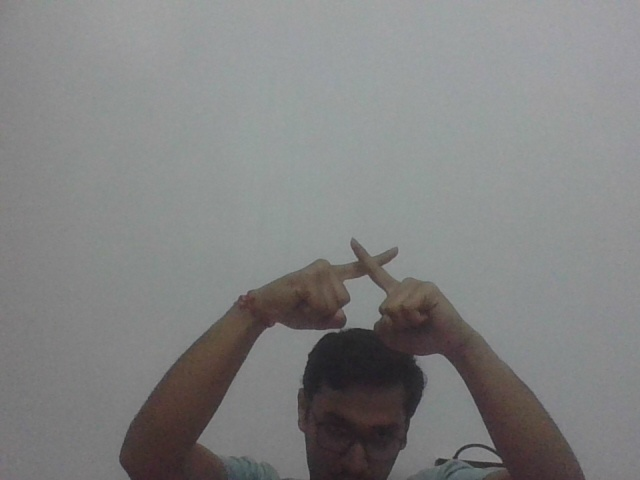X: (276, 236, 459, 344)
